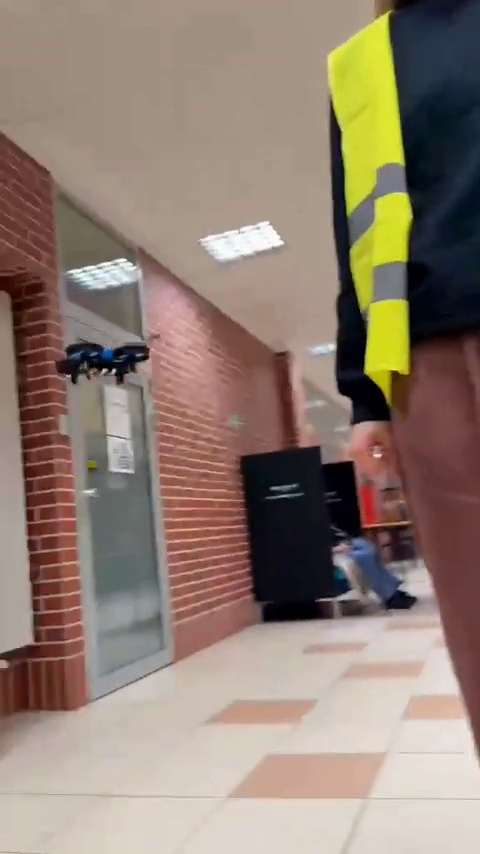drone: (53, 333, 146, 385)
